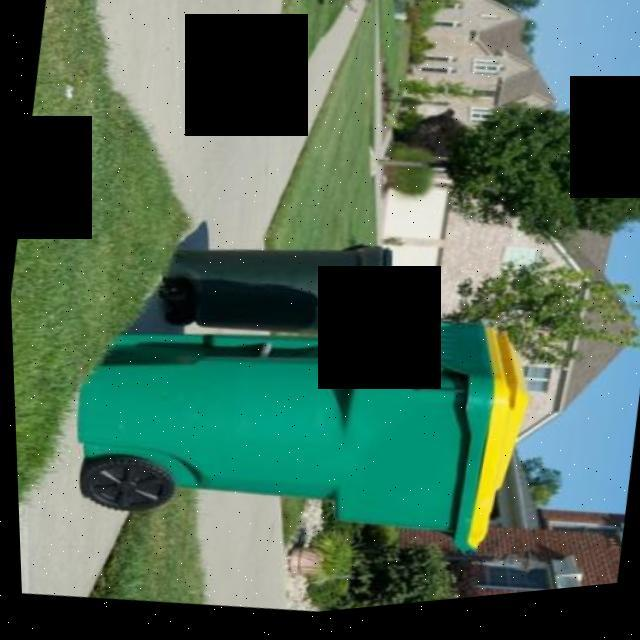bin: (54, 260, 544, 598), (143, 209, 409, 372)
